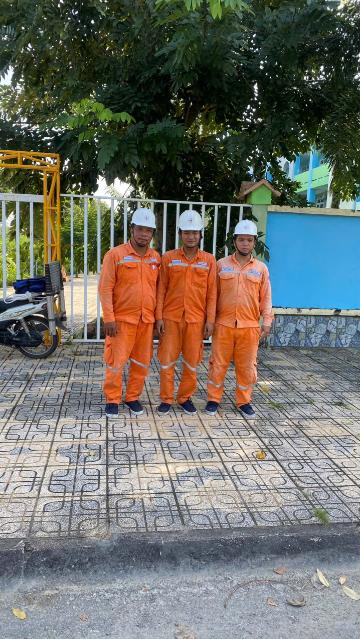helmet: (171, 208, 211, 233), (129, 204, 159, 231), (232, 218, 263, 240)
shoes: (232, 401, 257, 420), (124, 397, 150, 415), (177, 396, 196, 420), (157, 397, 172, 420), (106, 396, 119, 422), (206, 398, 222, 418)
